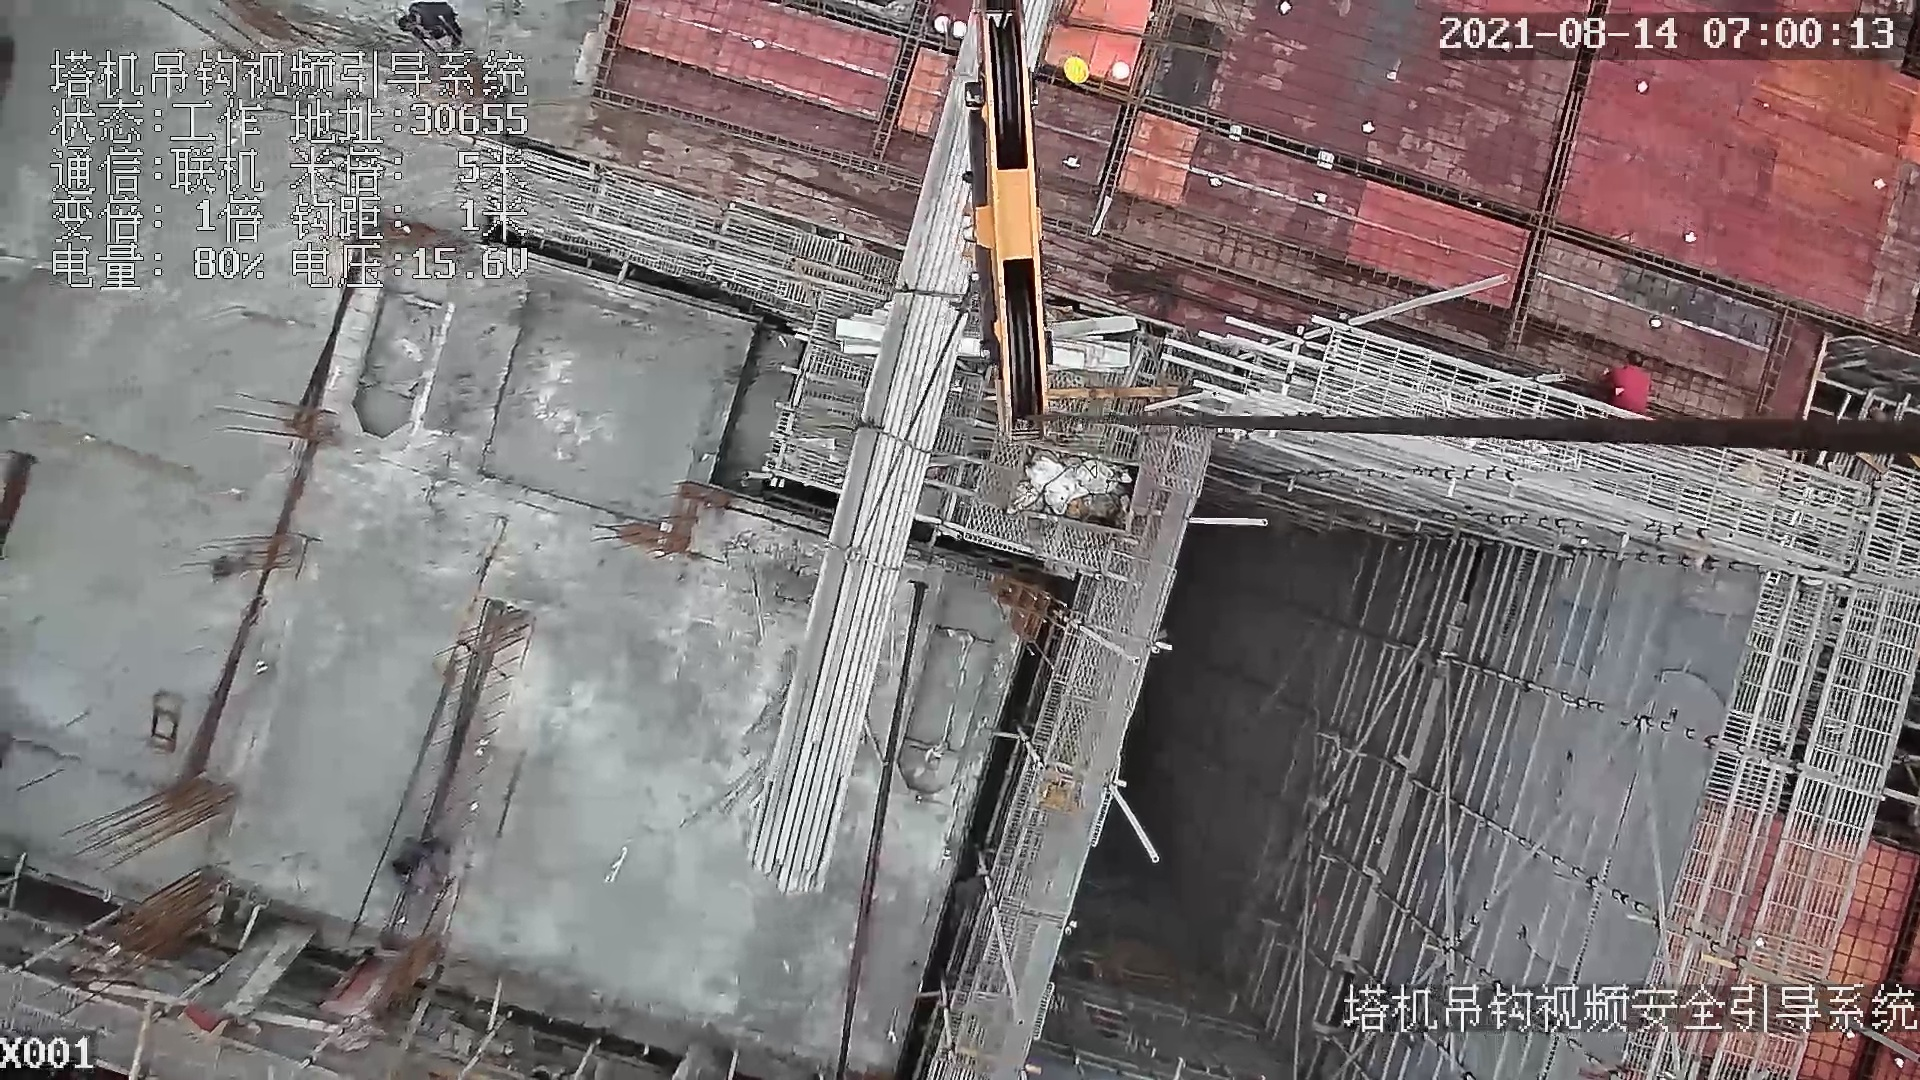helmet: (1063, 55, 1089, 84)
hook: (949, 1, 1062, 453)
person: (1588, 330, 1649, 414), (394, 834, 452, 895)
rebar: (746, 1, 1043, 896)
